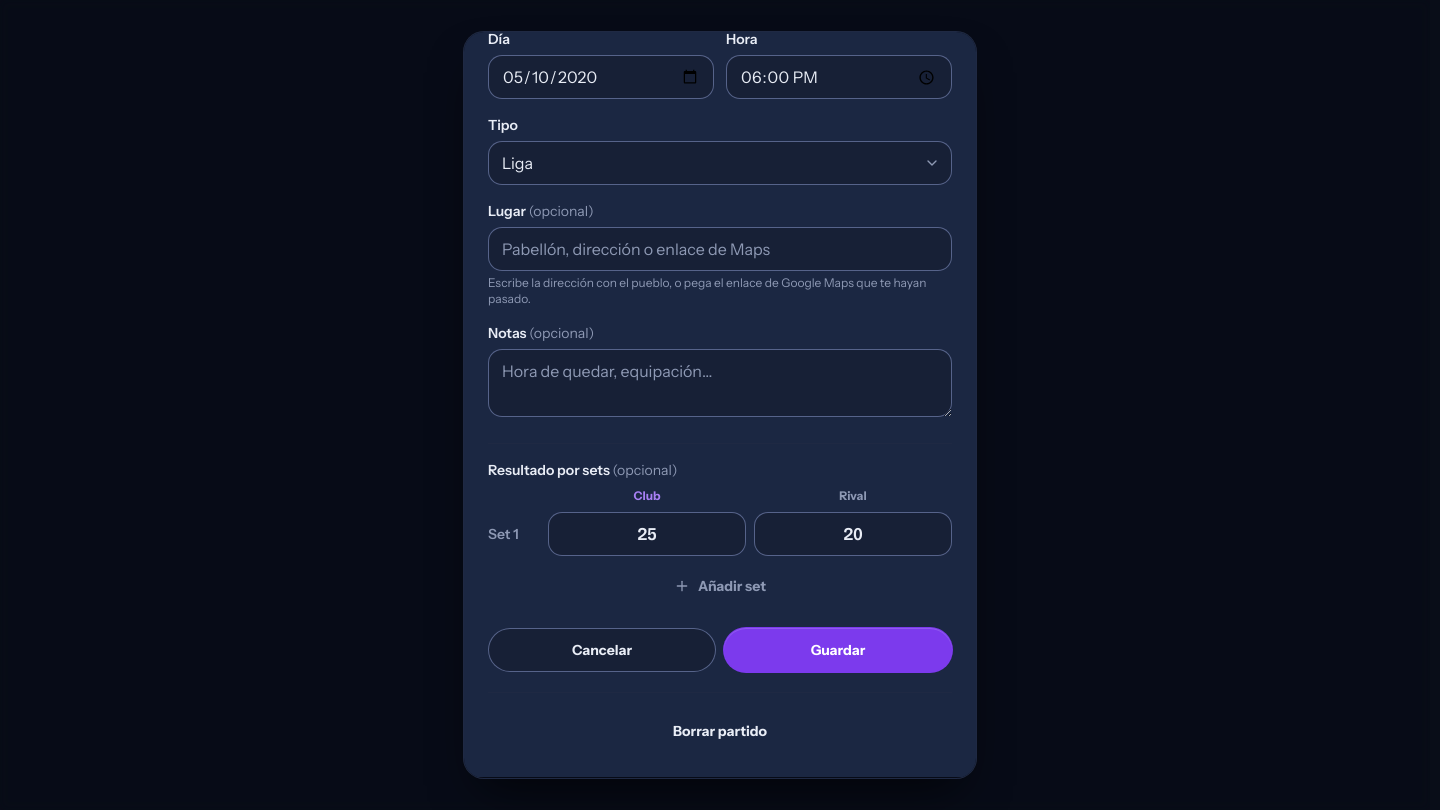
MatchDialog › borrar pide confirmación
Later steps or results of the test are not shown.
(page scrolled)
Click the button "Borrar partido" at (720, 731), box x1=488 y1=709 x2=952 y2=753
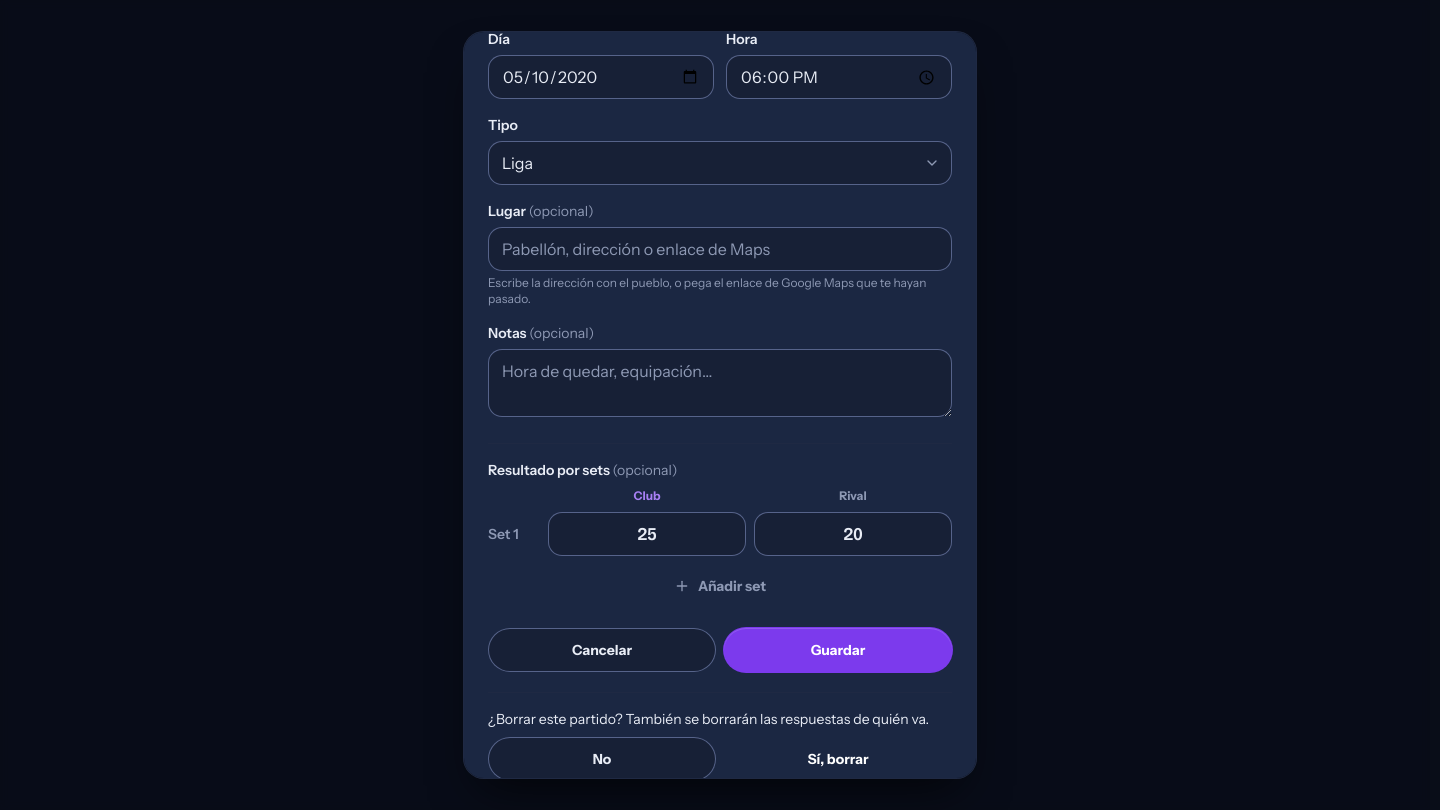
Check: the text "¿Borrar este partido?" is shown, box x1=488 y1=710 x2=929 y2=728
